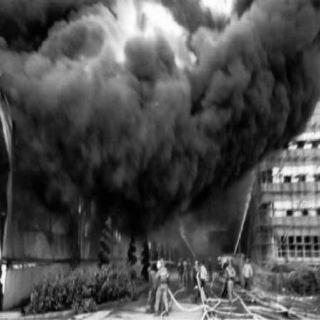Smoke: (8, 1, 308, 217)
